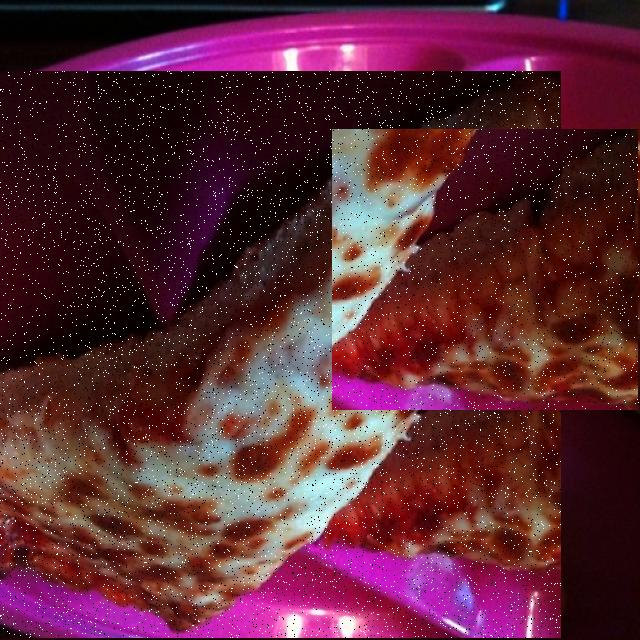Pizza: (0, 71, 561, 638), (332, 131, 639, 410)
